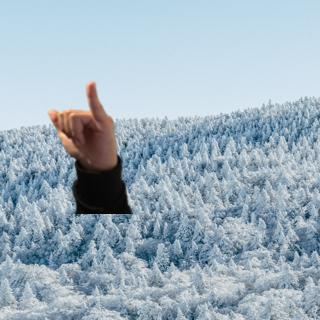HAVE: (41, 75, 124, 171)
